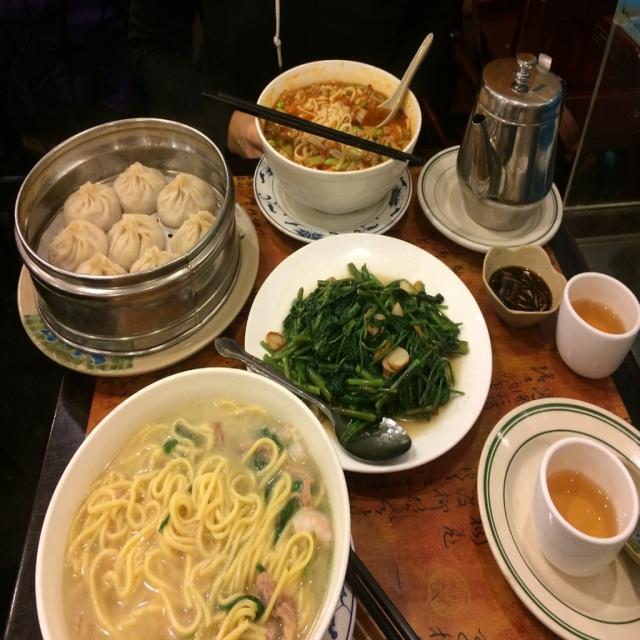Coffee: (546, 471, 622, 537), (570, 300, 629, 334)
Tea: (546, 472, 614, 539), (572, 300, 626, 337)
